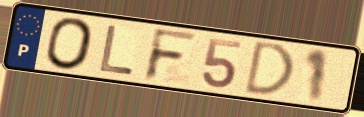1: (301, 48, 328, 105)
5: (200, 35, 245, 90)
D: (241, 39, 297, 98)
F: (141, 26, 201, 84)
L: (97, 23, 137, 77)
O: (44, 16, 96, 73)
